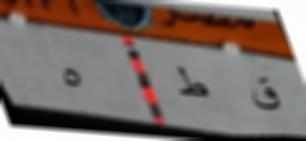5: (59, 63, 85, 93)
Taa: (174, 62, 209, 101)
qaaf: (247, 70, 286, 113)
